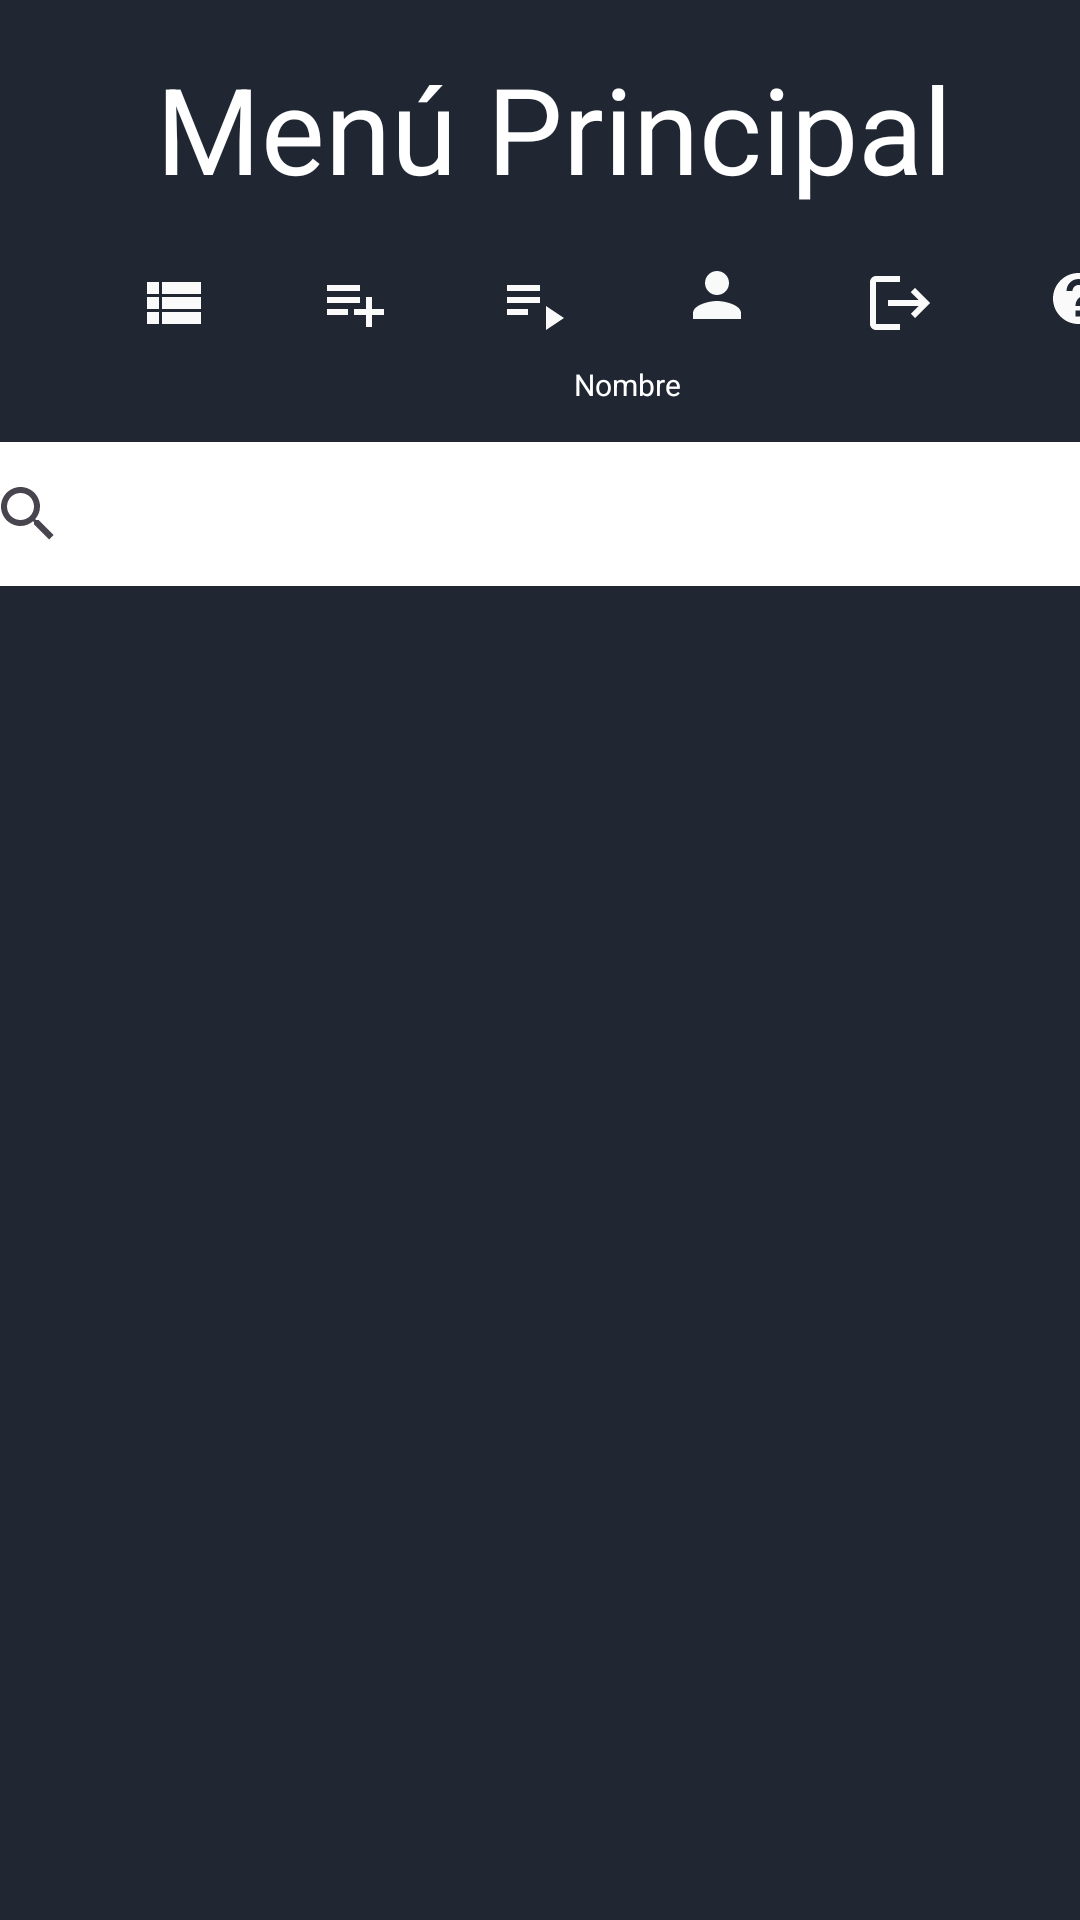

Icons on this 1080*1920 Android screen, each with its box as (x1, y1, x2, y2):
create playlist: (327, 285, 384, 327)
library: (147, 282, 201, 324)
person: (693, 271, 741, 319)
view playlist: (507, 285, 564, 330)
